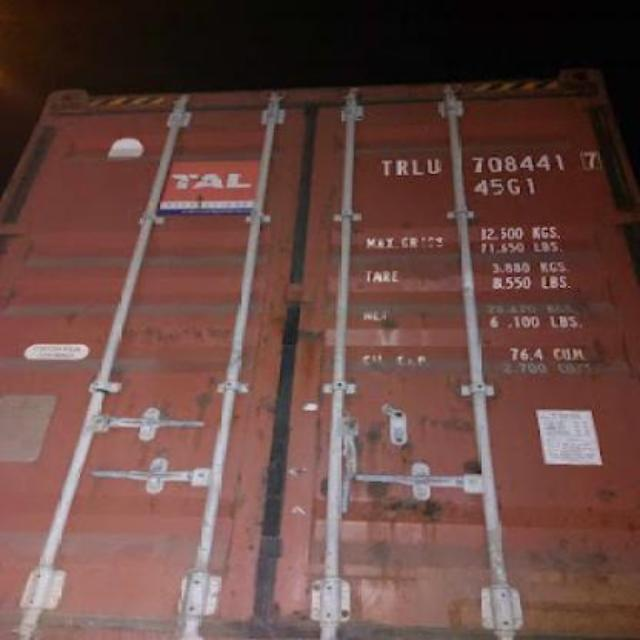0: (486, 151, 499, 175)
1: (552, 148, 568, 176)
4: (534, 148, 552, 176), (516, 150, 534, 173)
7: (580, 148, 604, 174), (470, 150, 486, 173)
8: (504, 150, 518, 173)
L: (408, 152, 426, 178)
R: (392, 150, 410, 182)
T: (378, 152, 394, 178)
U: (424, 153, 440, 180)
